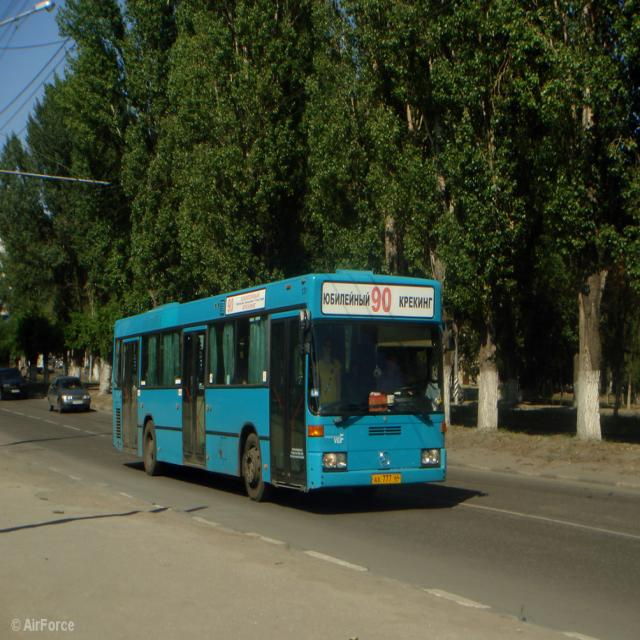number-of-bus: (371, 285, 394, 316), (226, 298, 237, 314)
